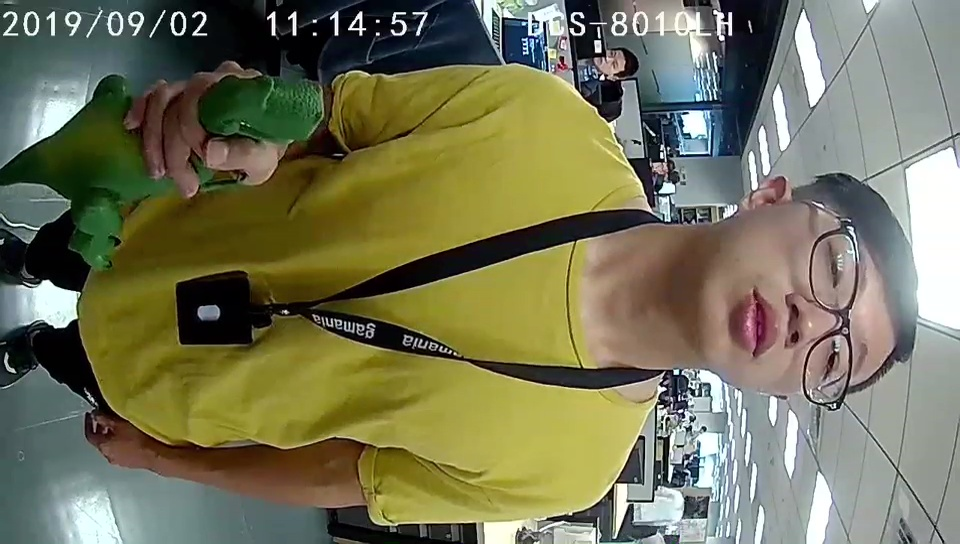rex: (66, 75, 325, 267)
